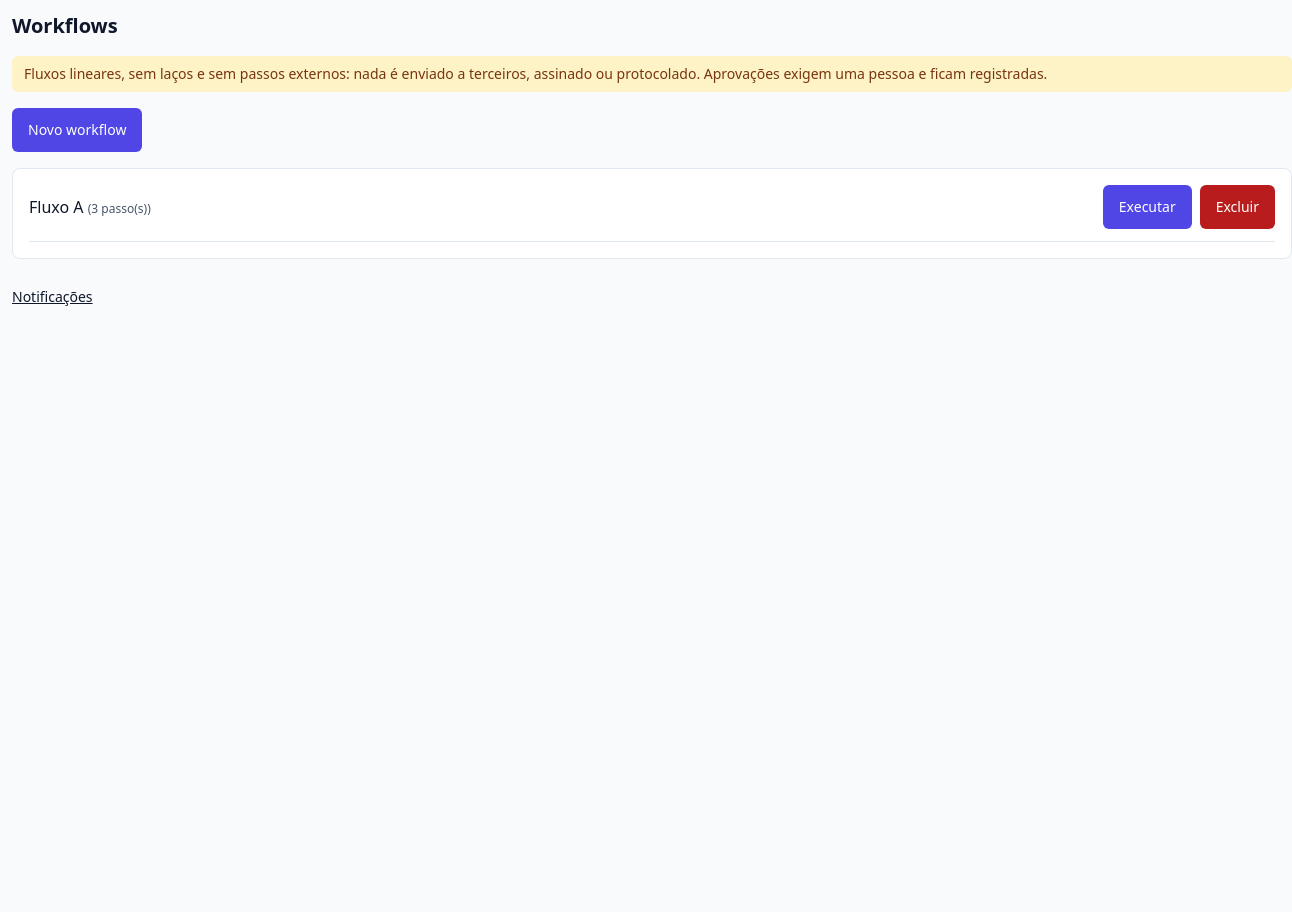
Scenario: WorkflowsPage — criação › recusa ordem inválida antes de chamar a API e lista o workflow existente
expect the text "Fluxo A" is shown: met, box [29,196,84,218]
Click the button "Novo workflow". click: point(77, 130)
box: [12,108,142,152]
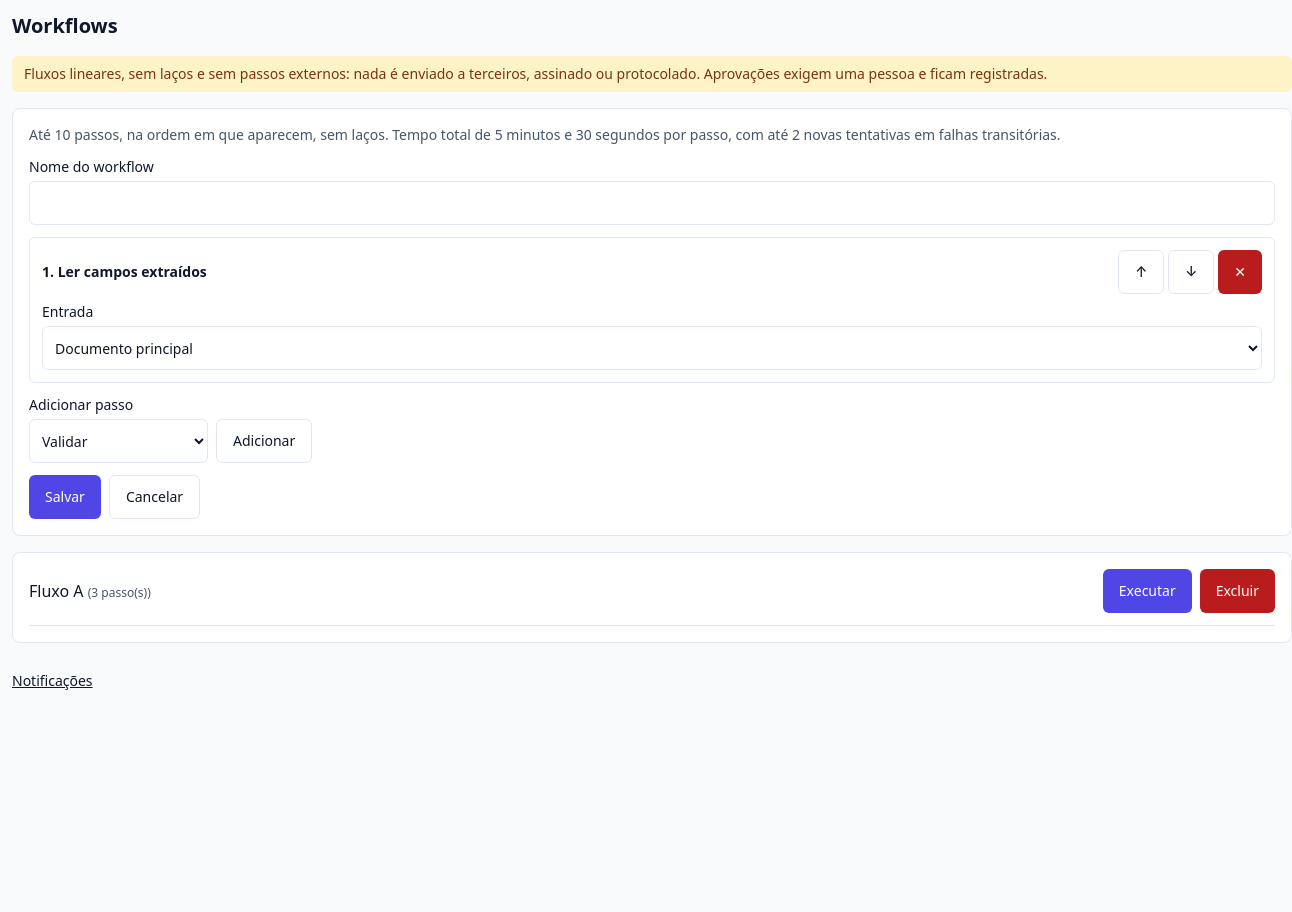
Type "X" into the field labelled "Nome do workflow". click: point(652, 203)
box: [29,181,1275,225]
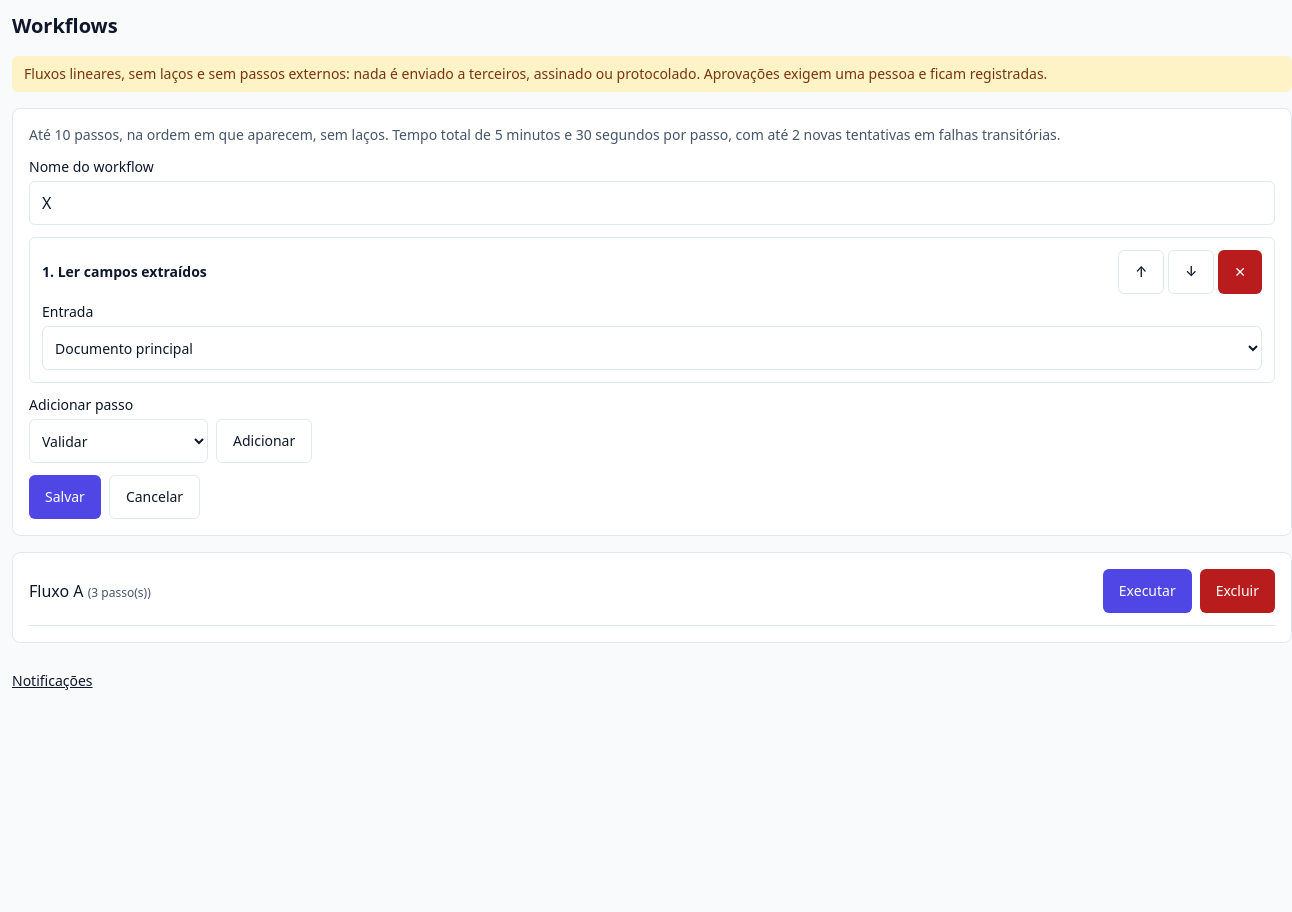
# remove o passo de leitura e deixa só "Validar"
Click the button named "Remover passo". click: point(1240, 272)
box: [1218,250,1262,294]
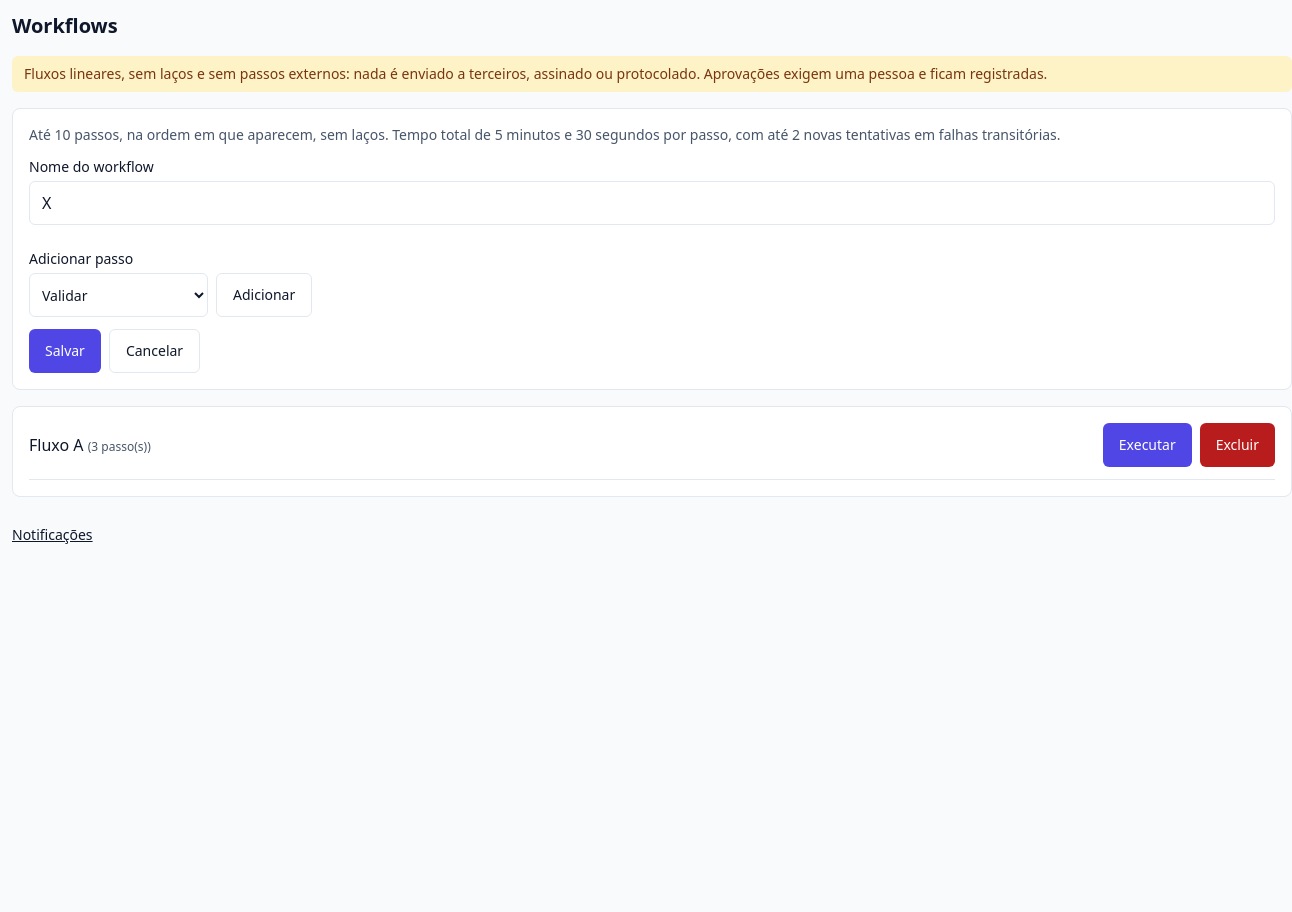
Click the button "Adicionar". click: point(264, 295)
box: [216,273,312,317]
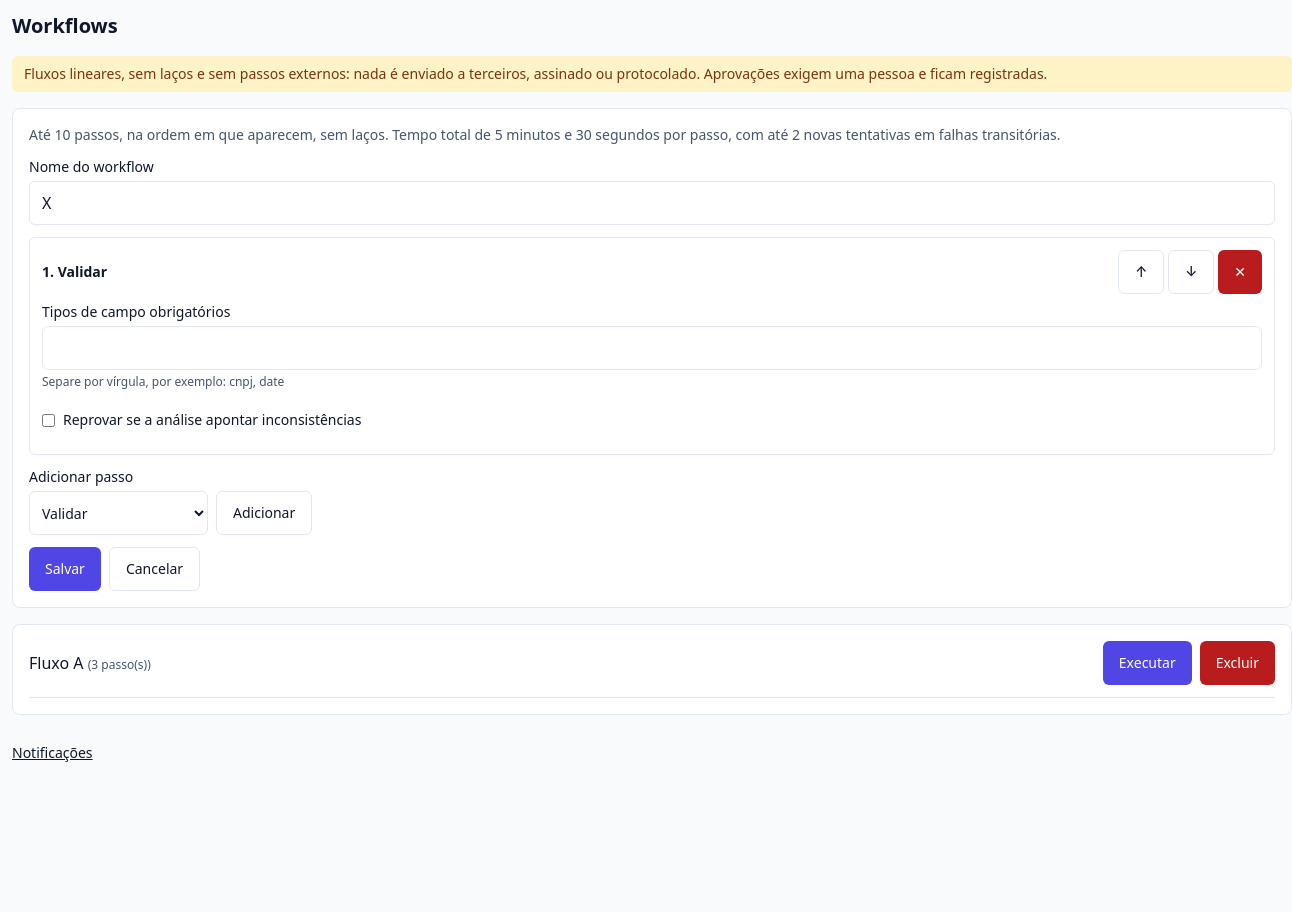
Click the button "Salvar". click: point(65, 569)
box: [29,547,101,591]
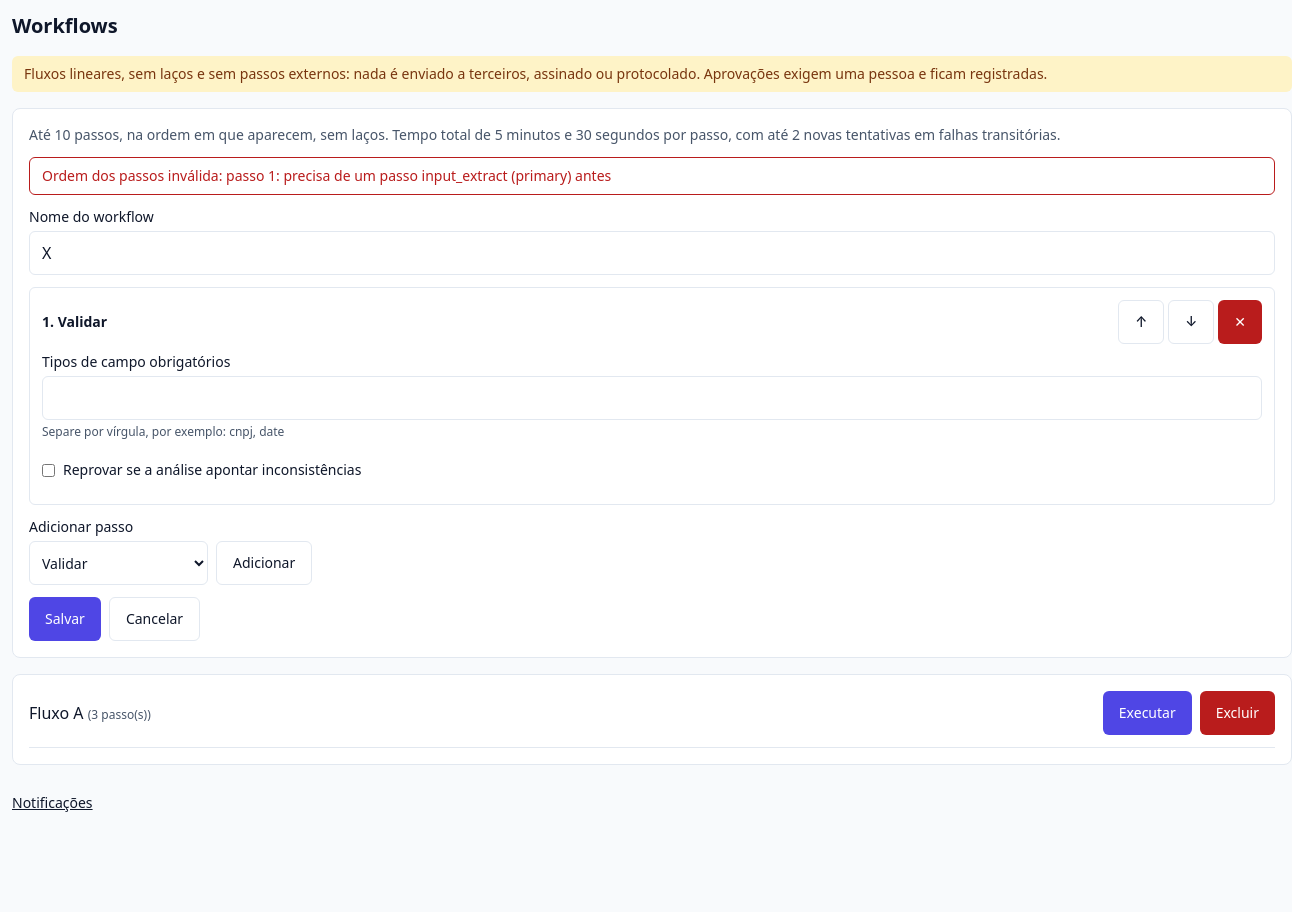
expect the text "Ordem dos passos inválida" is shown: met, box [42,166,611,185]
